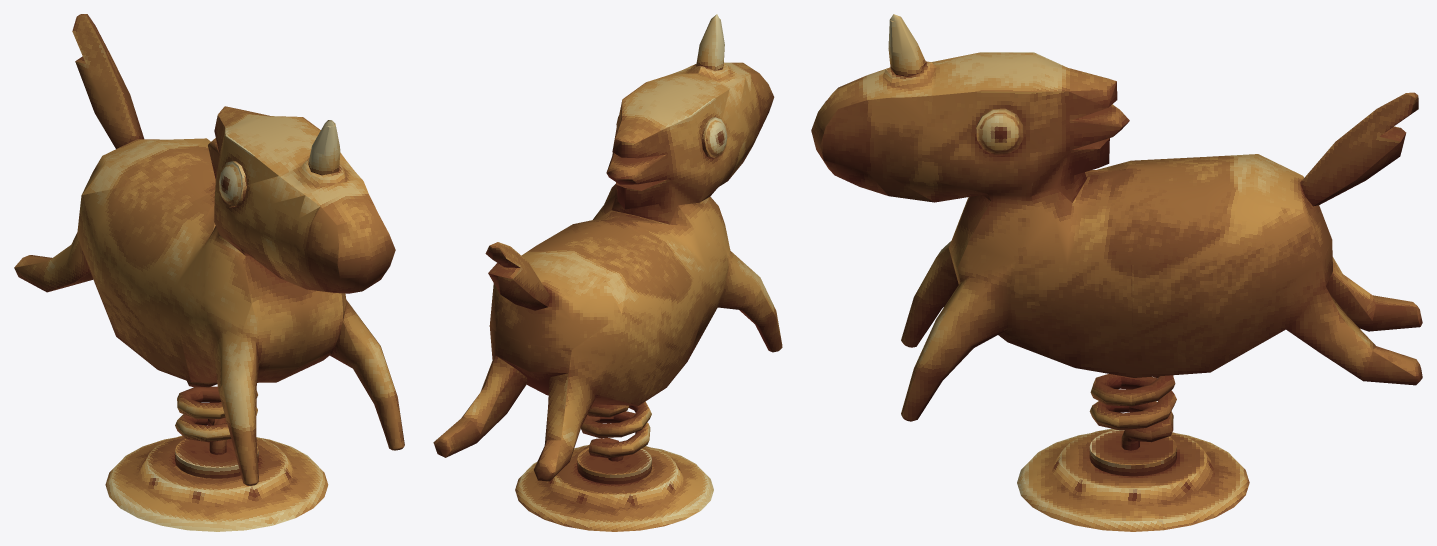
Rendered from spring_horse.glb.
3 renders of one model, left to right at view 1: azimuth 30°, elevation 25°; view 2: azimuth 150°, elevation 25°; view 3: azimuth 270°, elevation 25°, orthographic. The views are drawn at different scales.
Parts seen in each view (by area): view 1: mesh; view 2: mesh; view 3: mesh.
Part boxes in pixels (bbox=[...]): mesh: bbox=[14, 14, 404, 531]; mesh: bbox=[433, 14, 782, 531]; mesh: bbox=[811, 14, 1422, 531].
Size of the model in its own units: 0.3825 by 0.85 by 1.
Materials: 1 (1 with a texture image).
